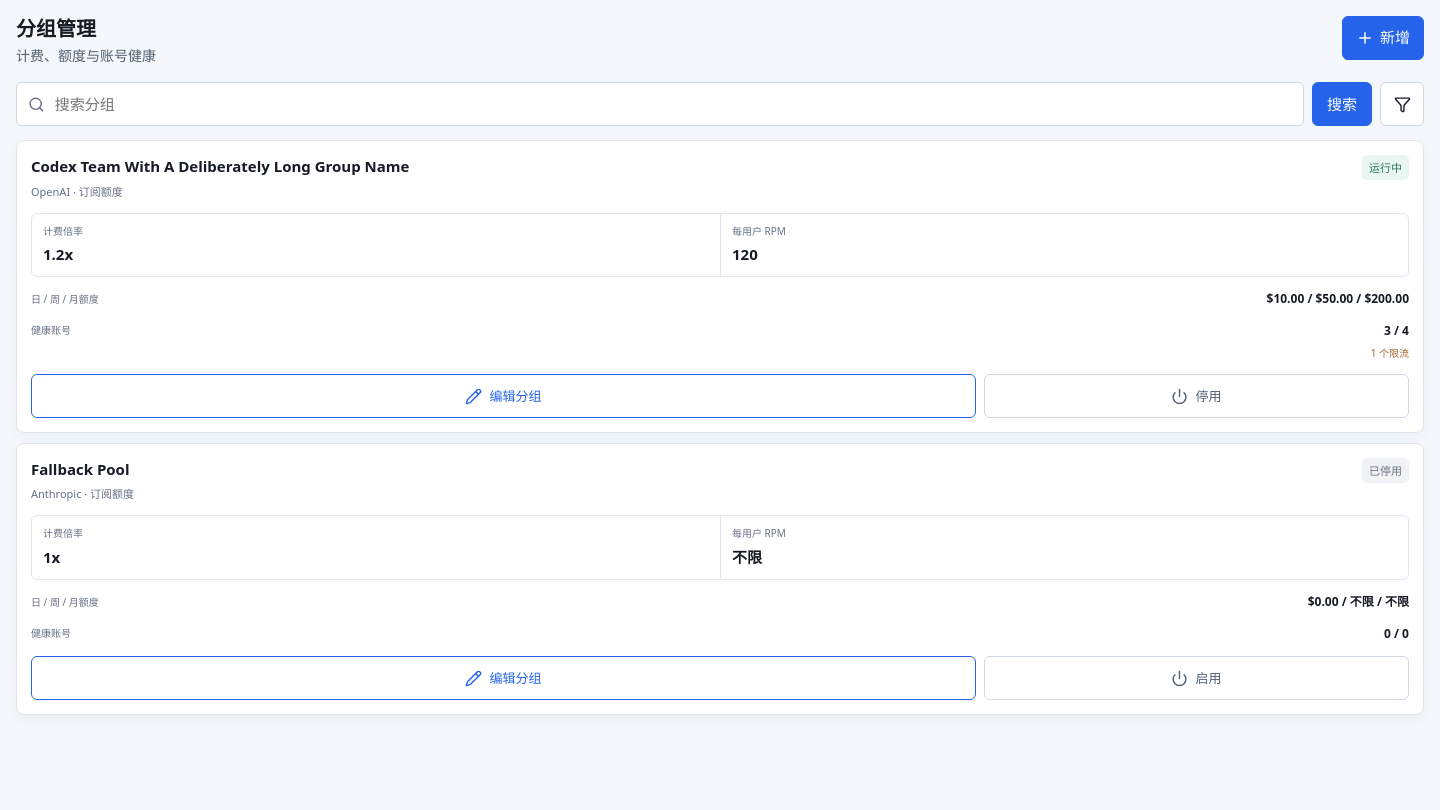
Test: MobileAdminGroupsView › rejects rate multiplier zero without submitting or leaking the raw value
Click the button with test id "edit-group-8" at (503, 396), box [31,374,976,418]
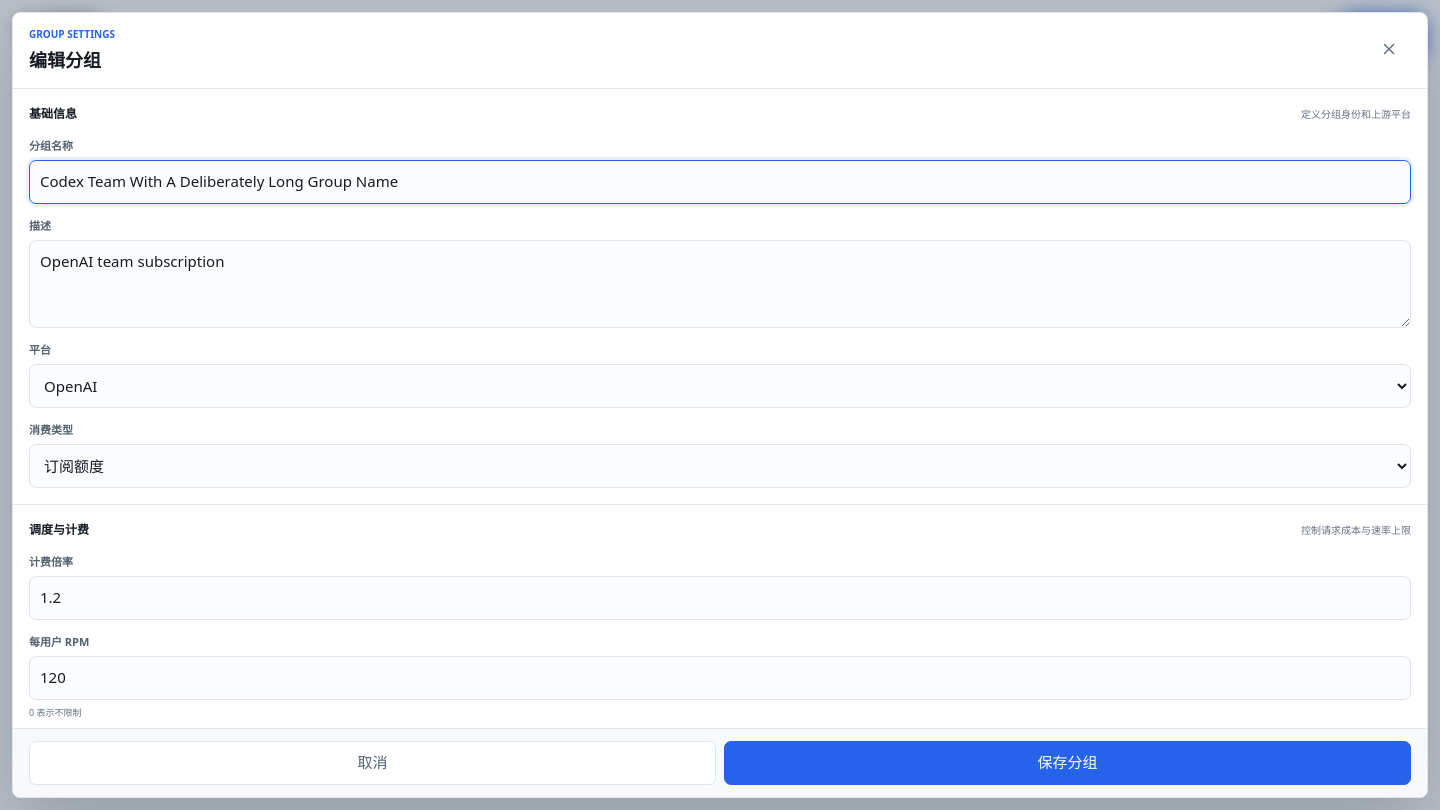
Replace the text in the number field with test id "group-rate-multiplier" with "0" at (720, 598), box [29,576,1411,620]
(page scrolled)
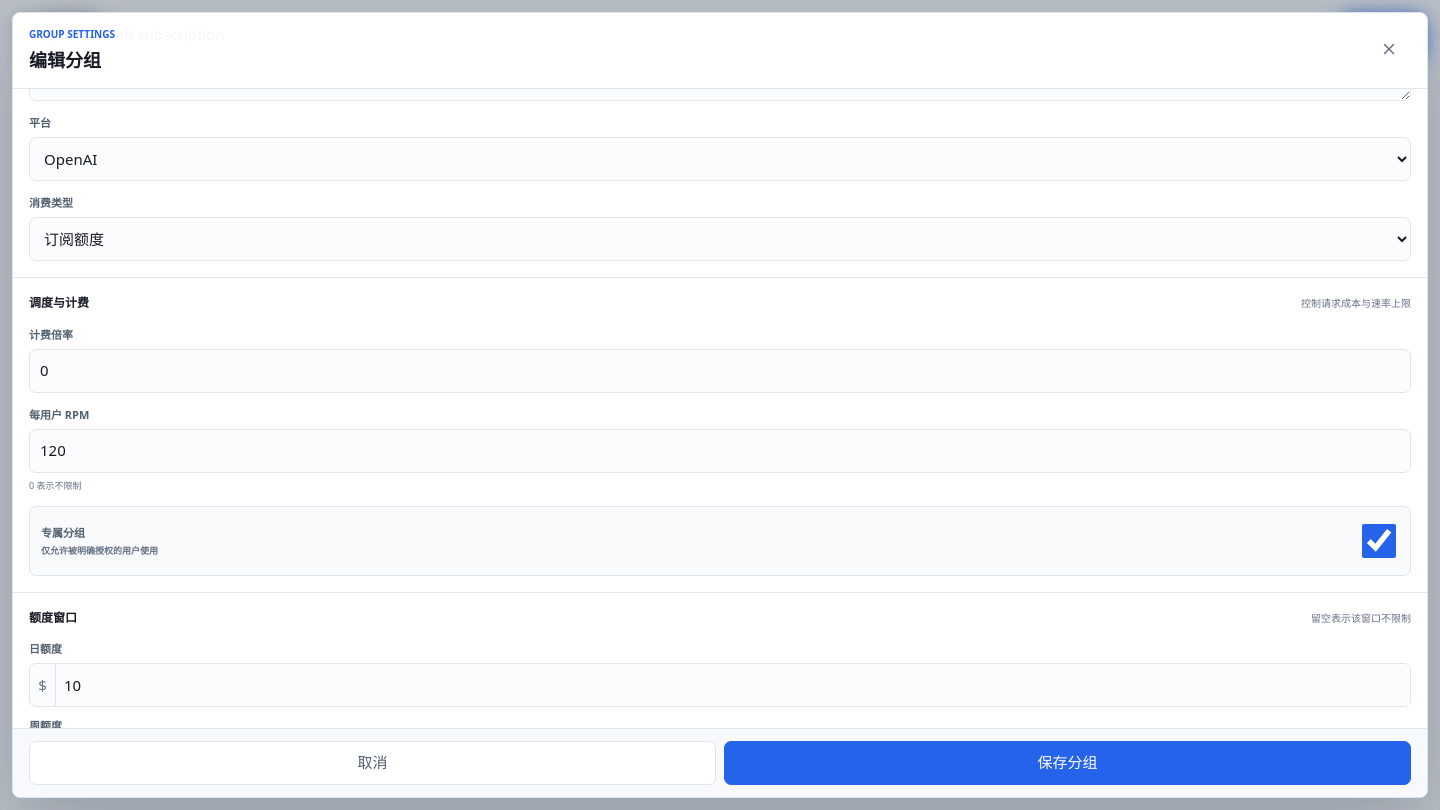
Submit the form with test id "group-editor" that starts with "基础信息"
(page scrolled)
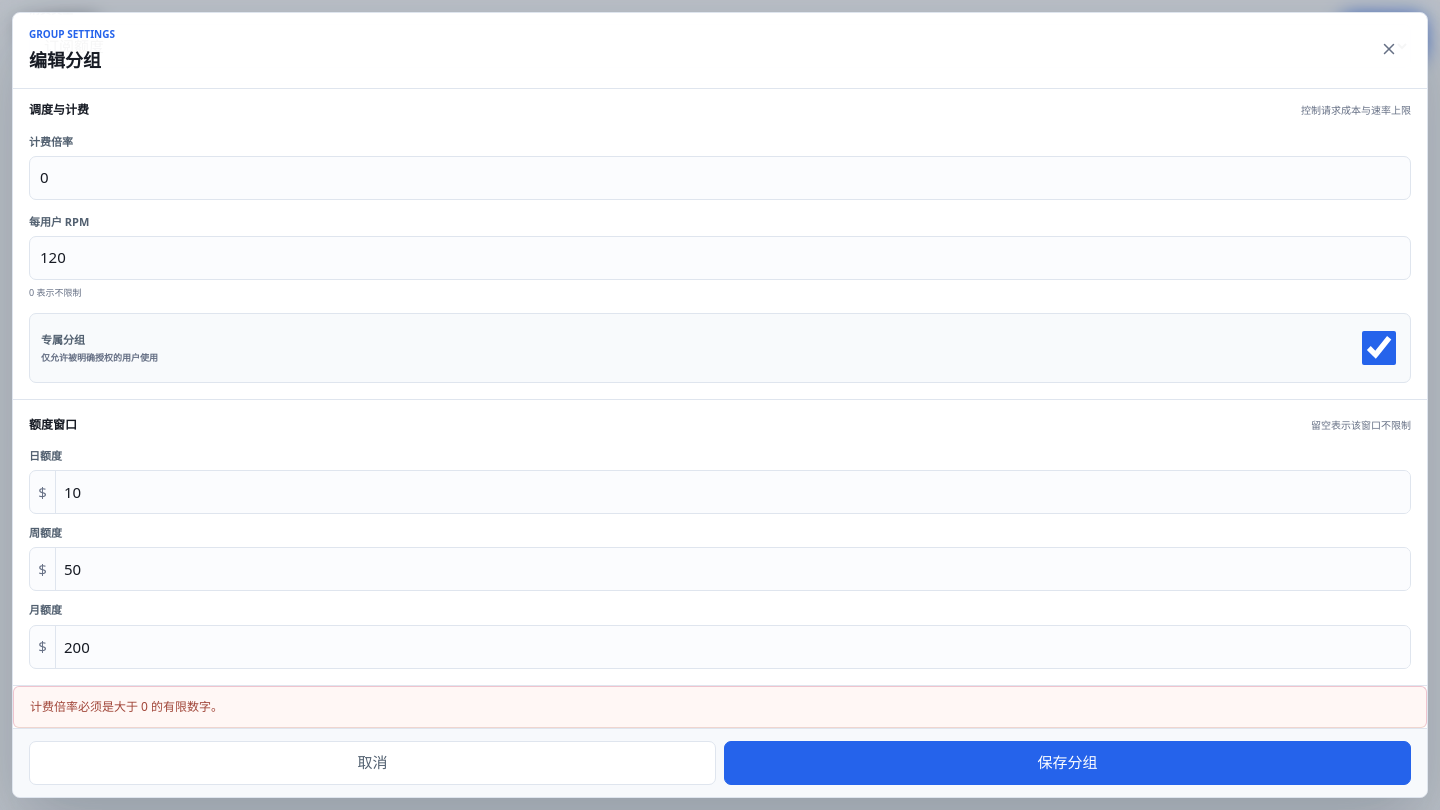
Now the dialog with class "group-editor" that starts with "GROUP SETTINGS" is shown
Now the message "计费倍率必须是大于 0 的有限数字。" is shown, box [13,686,1427,728]
